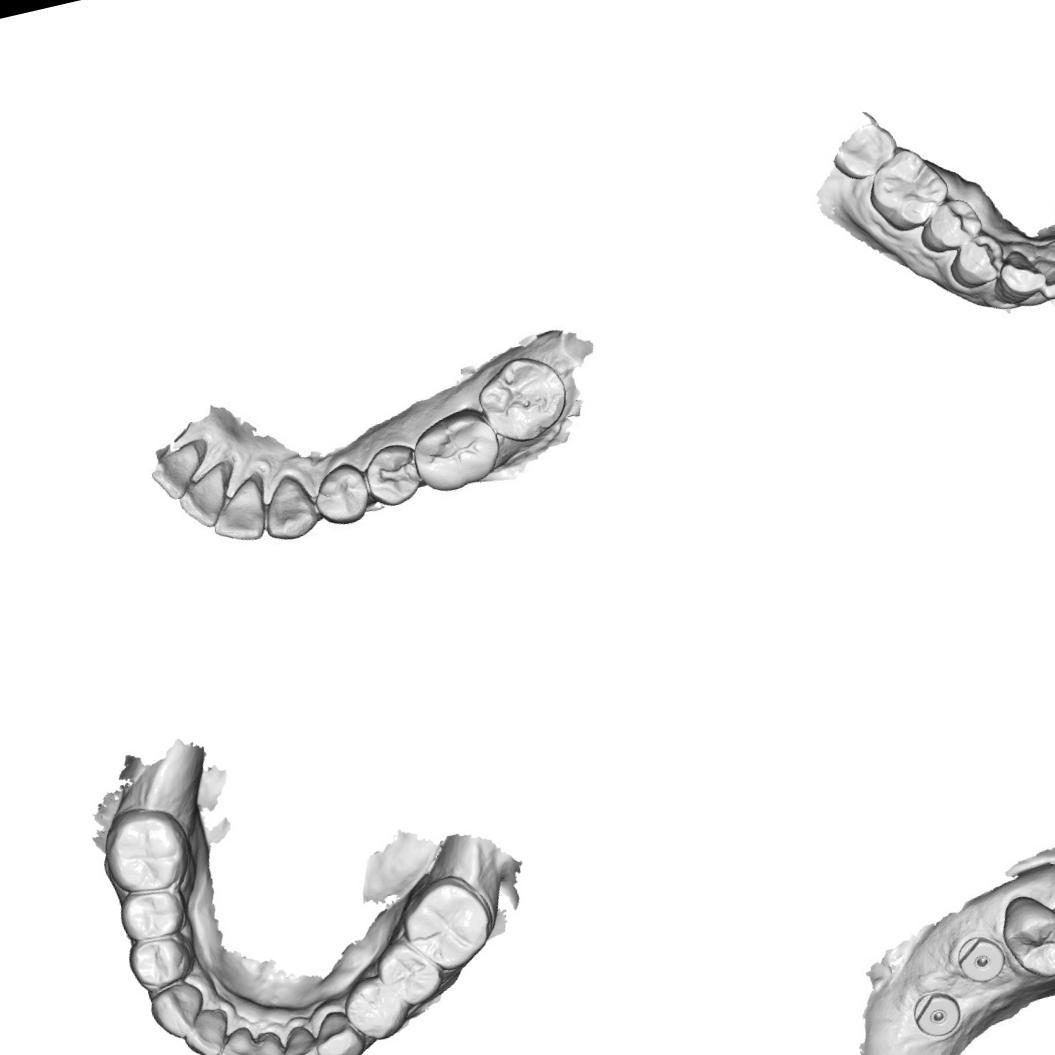canine: (254, 468, 327, 548), (145, 977, 213, 1044), (985, 244, 1052, 310), (307, 1004, 368, 1055)
implant: (900, 979, 968, 1047), (955, 932, 1008, 990)
incisor: (202, 475, 275, 546), (143, 440, 213, 507), (172, 466, 239, 532), (177, 1003, 237, 1055), (277, 1020, 324, 1055), (212, 1023, 262, 1055), (1028, 248, 1055, 303), (243, 1027, 290, 1055)
molar: (393, 868, 502, 980), (94, 798, 198, 902), (858, 139, 957, 238), (476, 352, 574, 446), (412, 404, 504, 494), (826, 116, 903, 185)
premolar: (992, 884, 1055, 985), (337, 968, 416, 1048), (370, 933, 448, 1012), (114, 878, 192, 946), (122, 928, 201, 994), (912, 192, 989, 258), (942, 230, 1011, 294), (363, 440, 426, 510), (312, 458, 375, 528)
